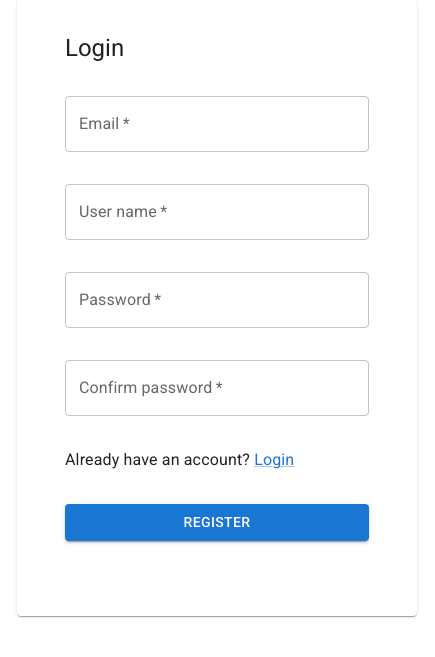
submit action checks passwords matching and displays error
Type "email@adress.com" into the field labelled "Email *".
click(217, 124); type("email@adress.com")  # box [65,96,369,152]
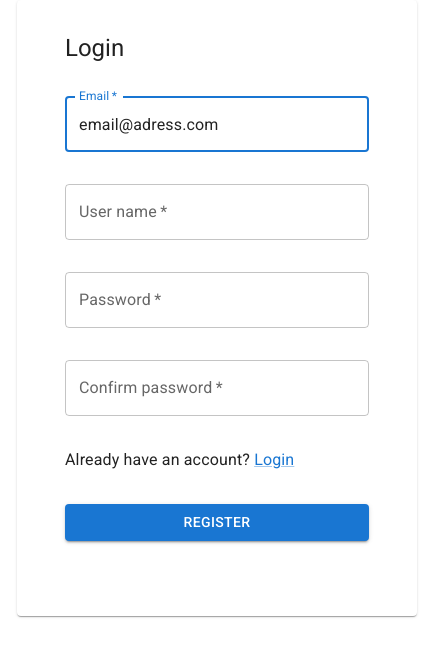
Type "username" into the field labelled "User name *".
click(217, 212); type("username")  # box [65,184,369,240]
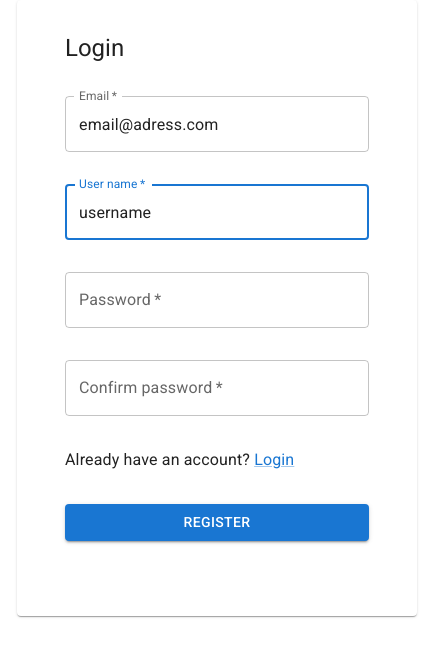
Type "1241" into the password field labelled "Password *".
click(217, 300); type("1241")  # box [65,272,369,328]
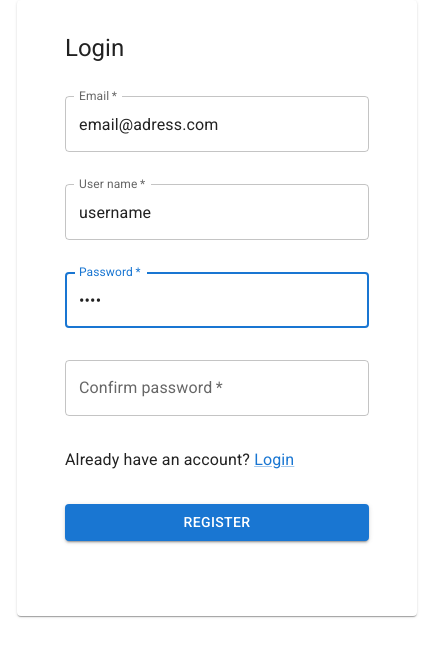
Type "12" into the password field labelled "Confirm password *".
click(217, 388); type("12")  # box [65,360,369,416]
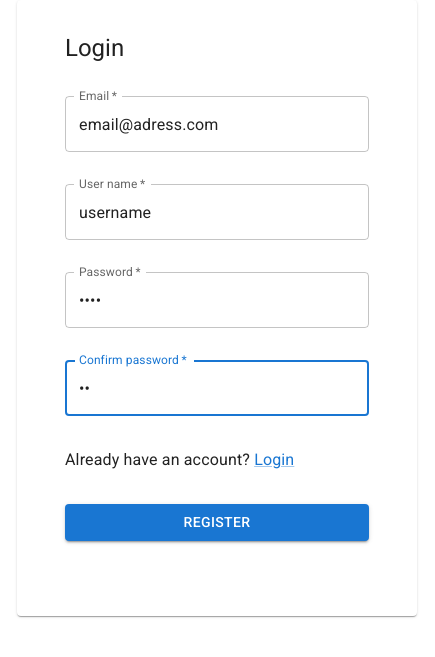
Click the button.
click(217, 522)  # box [65,504,369,540]
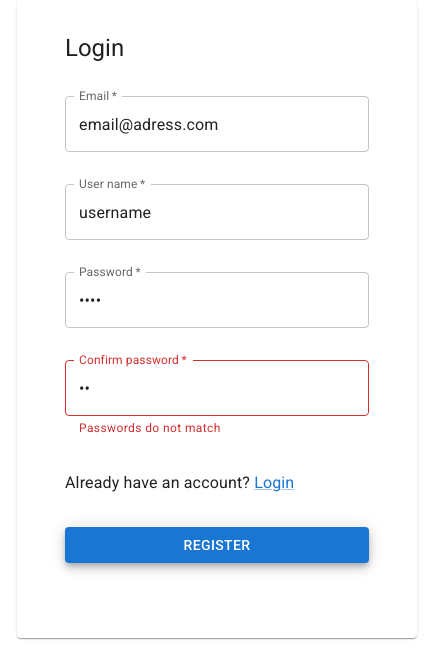
expect the text "Passwords do not match" is shown: met, box [79,421,221,435]
